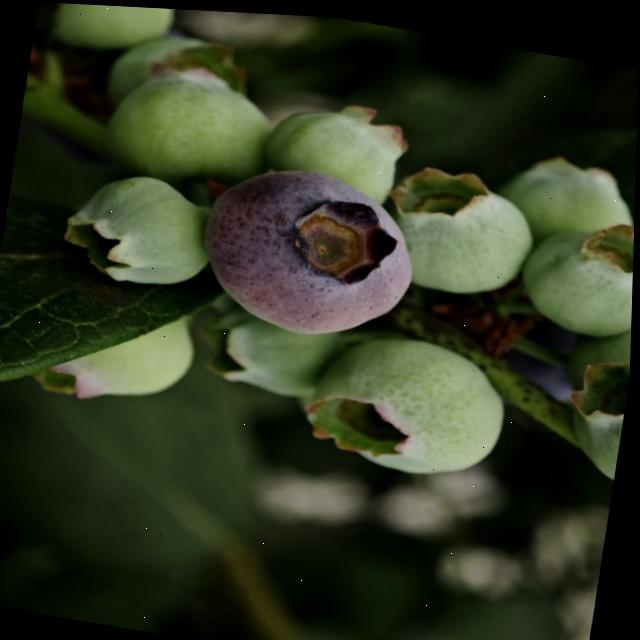Semi-RipeBlueBerry: (199, 158, 424, 341)
UnripeBlueBerry: (307, 324, 517, 487), (63, 165, 210, 291)
